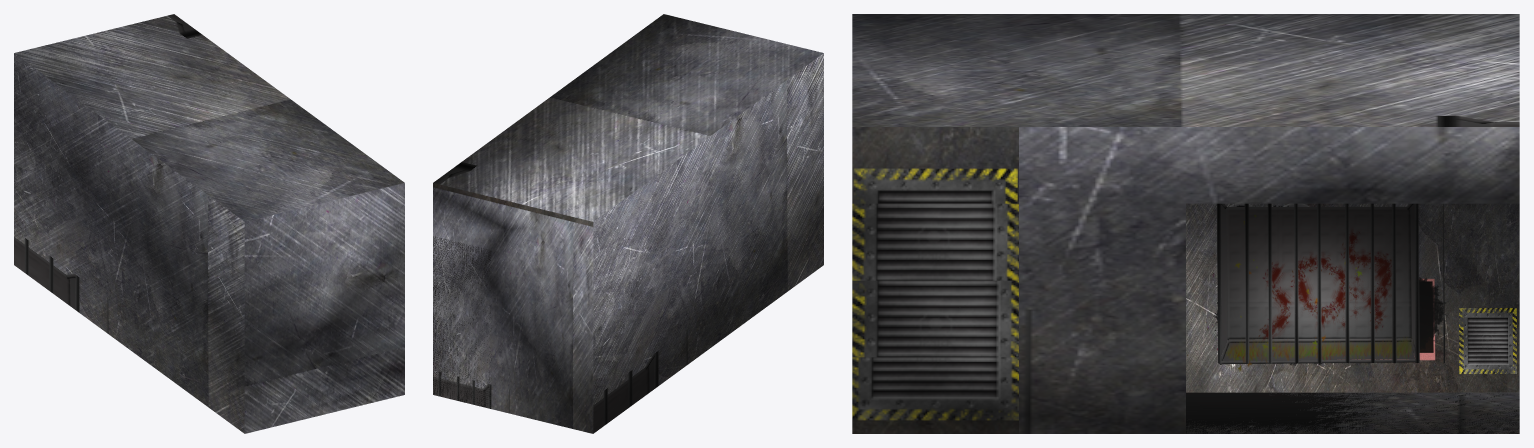
File: plataformaTerra2.fbx
3 renders of one model, left to right at view 1: azimuth 30°, elevation 25°; view 2: azimuth 150°, elevation 25°; view 3: azimuth 270°, elevation 25°, orthographic. The views are drawn at different scales.
Visible parts, largest first — view 1: Cube; view 2: Cube; view 3: Cube.
Part boxes in pixels (bbox=[...]): Cube: bbox=[14, 14, 404, 433]; Cube: bbox=[433, 14, 823, 433]; Cube: bbox=[852, 14, 1519, 433].
Size of the model in its own units: 1.08 by 1.37 by 2.69.
